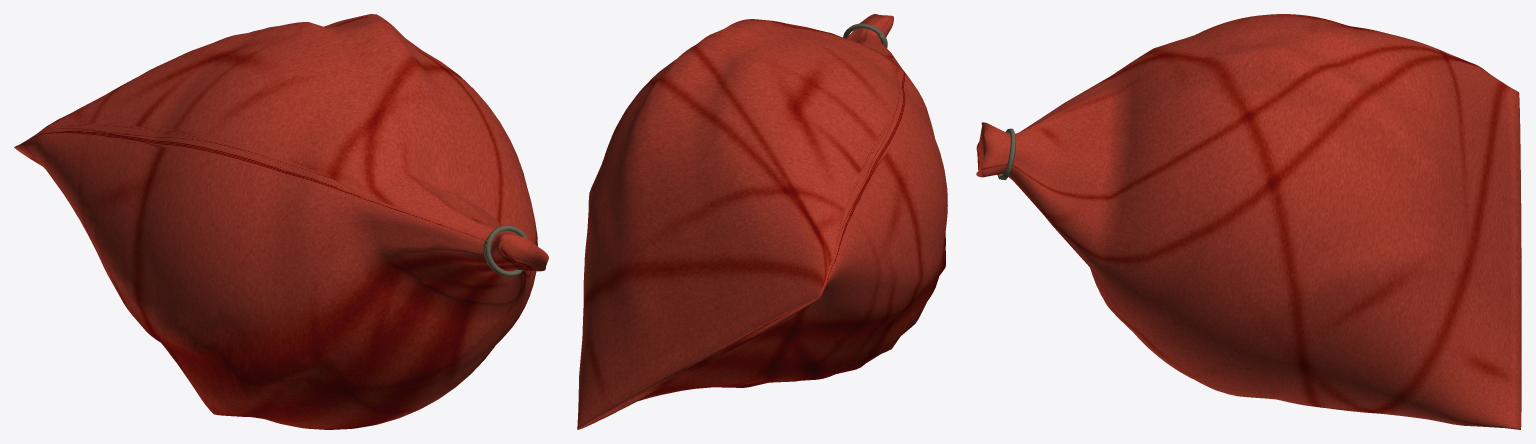
Rendered from peach_01_034.glb.
3 renders of one model, left to right at view 1: azimuth 30°, elevation 25°; view 2: azimuth 150°, elevation 25°; view 3: azimuth 270°, elevation 25°, orthographic. The views are drawn at different scales.
Parts seen in each view (by area): view 1: export_Tree01/shoot3_8_1/bag, export_Tree01/shoot3_8_1/bag/tie; view 2: export_Tree01/shoot3_8_1/bag; view 3: export_Tree01/shoot3_8_1/bag.
Boxes of the visible parts, <box> form: export_Tree01/shoot3_8_1/bag: <box>14,14,548,429</box>; export_Tree01/shoot3_8_1/bag/tie: <box>484,225,528,276</box>; export_Tree01/shoot3_8_1/bag: <box>577,14,947,429</box>; export_Tree01/shoot3_8_1/bag: <box>976,14,1521,429</box>.
Size of the model in its own units: 0.0887 by 0.0895 by 0.1229.
4 materials, 1 textured.
